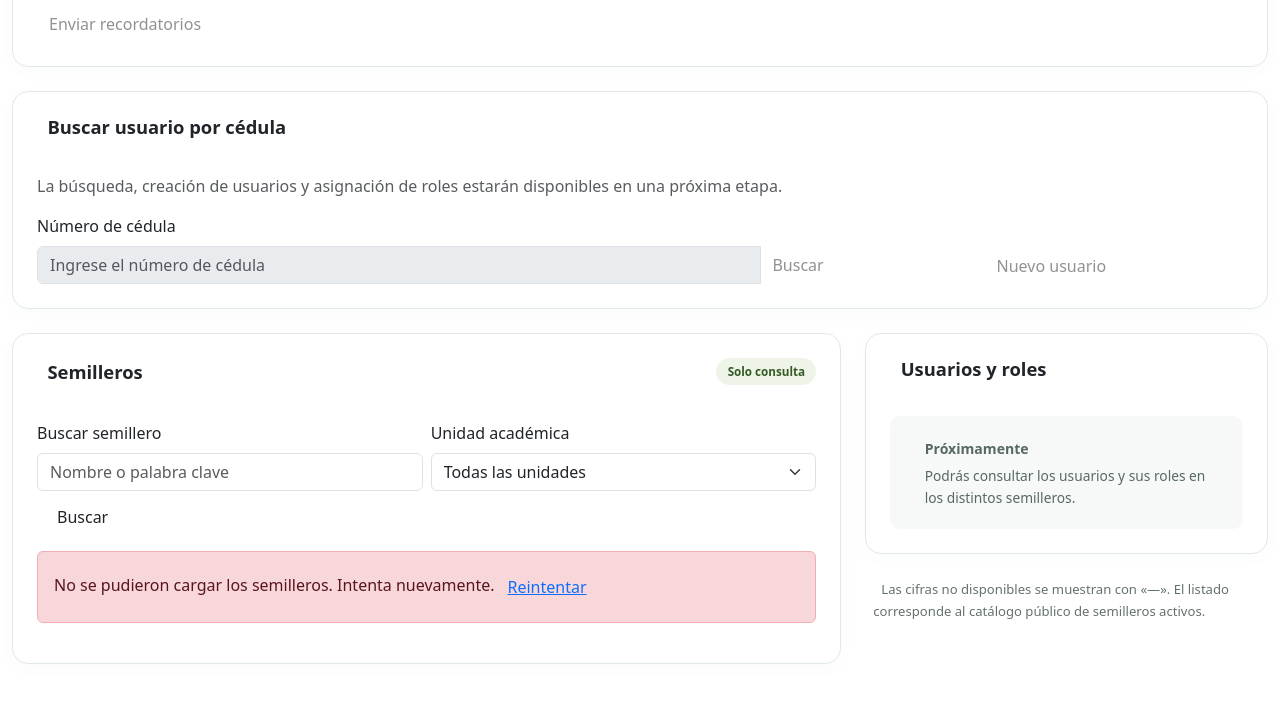
Panel administrativo › muestra un error recuperable si falla la API
The width and height of the screenshot is (1280, 720).
(page scrolled)
Expected: the text "No se pudieron cargar los semilleros. Intenta nuevamente. Reintentar" is shown, [37, 551, 816, 623]
Click the button "Reintentar".
click(547, 587)  # box [494, 568, 600, 606]
(page scrolled)
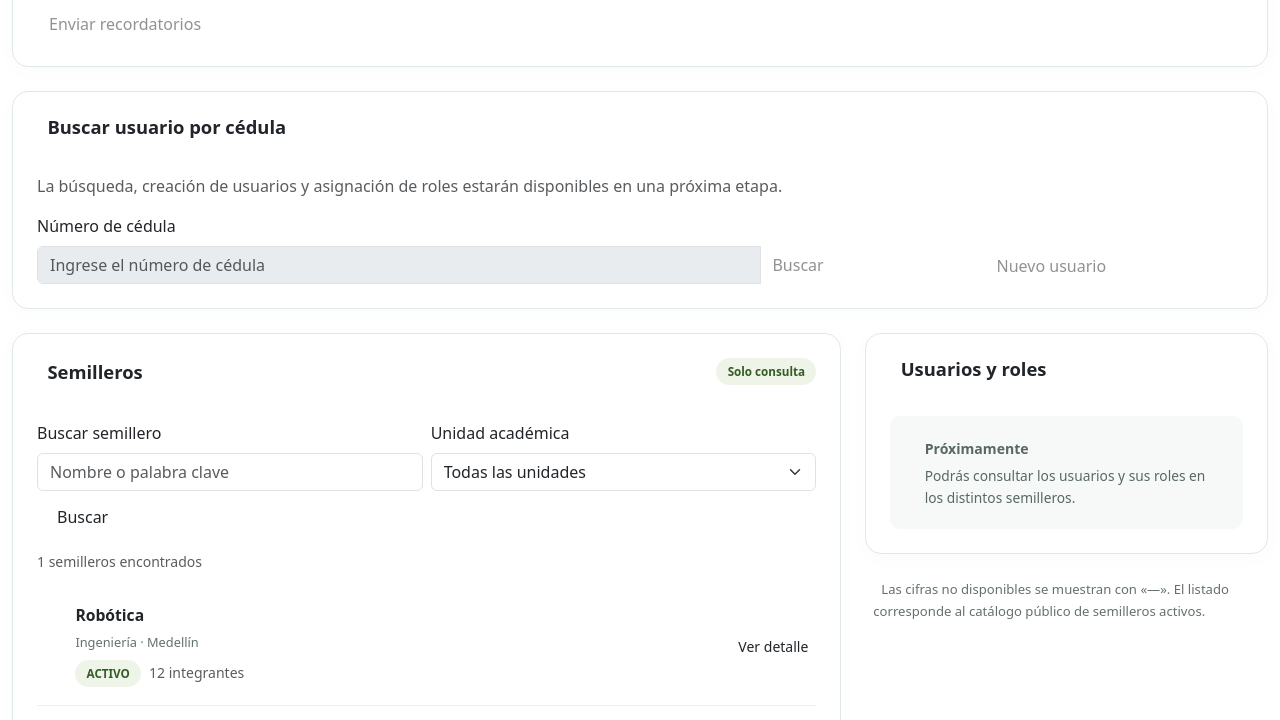
Now the heading "Robótica" is shown, box [75, 604, 144, 626]
